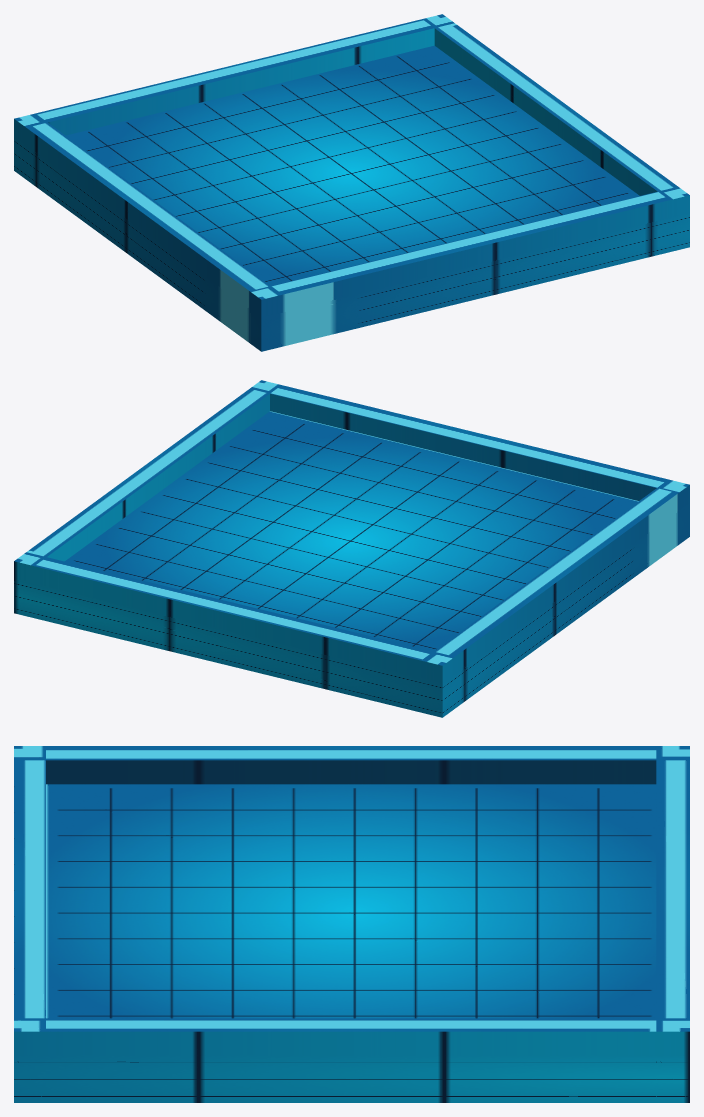
File: cubeconnBase.fbx
3 views of the same model, one above another, from view 1: azimuth 30°, elevation 25°; view 2: azimuth 150°, elevation 25°; view 3: azimuth 270°, elevation 25° (orthographic). The views are drawn at different scales.
Parts seen in each view (by area): view 1: Cube.003; view 2: Cube.003; view 3: Cube.003.
Boxes of the visible parts, <box> form: Cube.003: <box>14,14,689,351</box>; Cube.003: <box>14,380,689,717</box>; Cube.003: <box>14,746,689,1102</box>.
Size of the model in its own units: 771 by 771 by 89.48.
